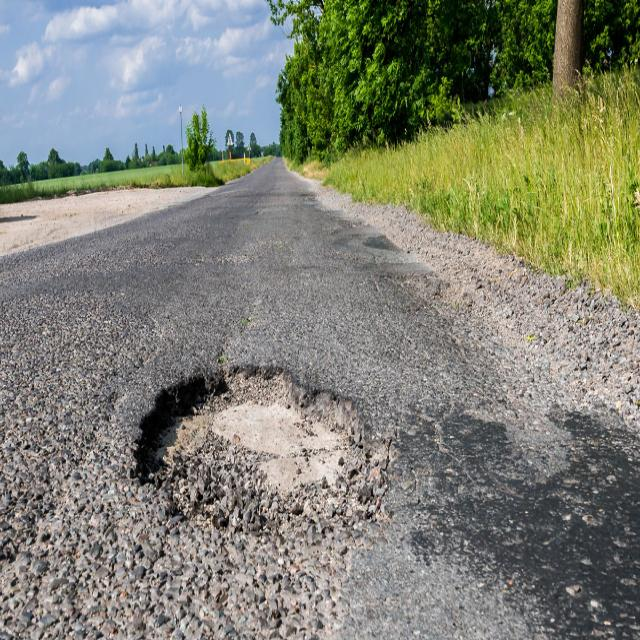Pothole: (89, 369, 387, 640)
